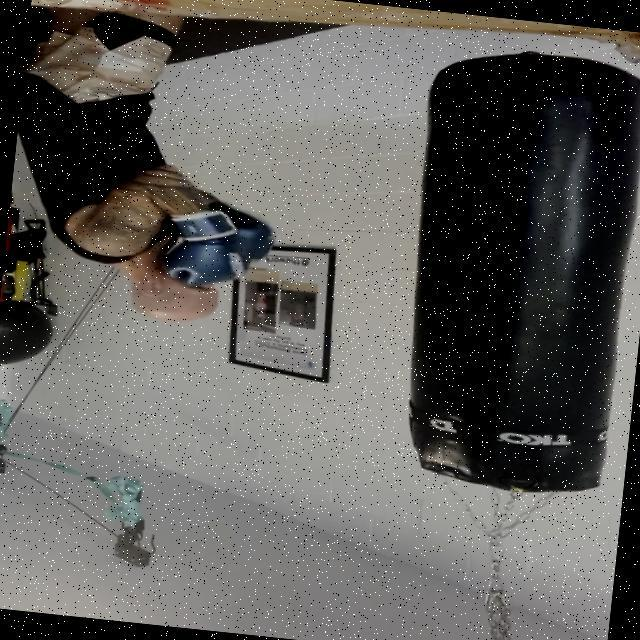bag: (369, 35, 640, 498)
no punch: (34, 155, 285, 338)
